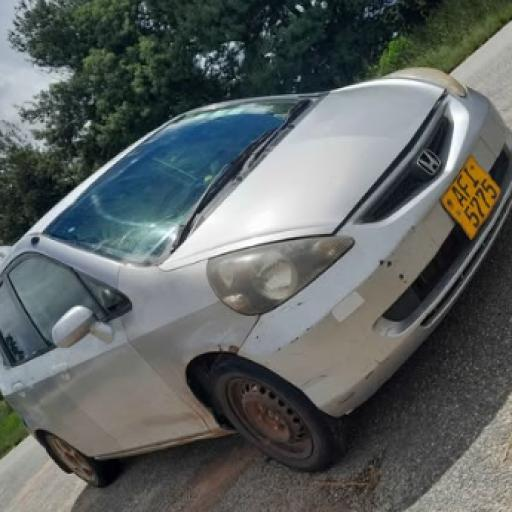number-plates: (443, 163, 499, 224)
